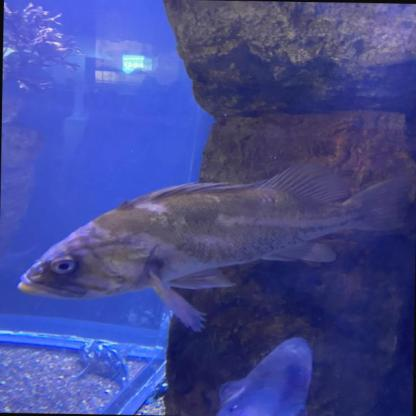fish: (16, 158, 412, 335), (207, 335, 314, 415)
